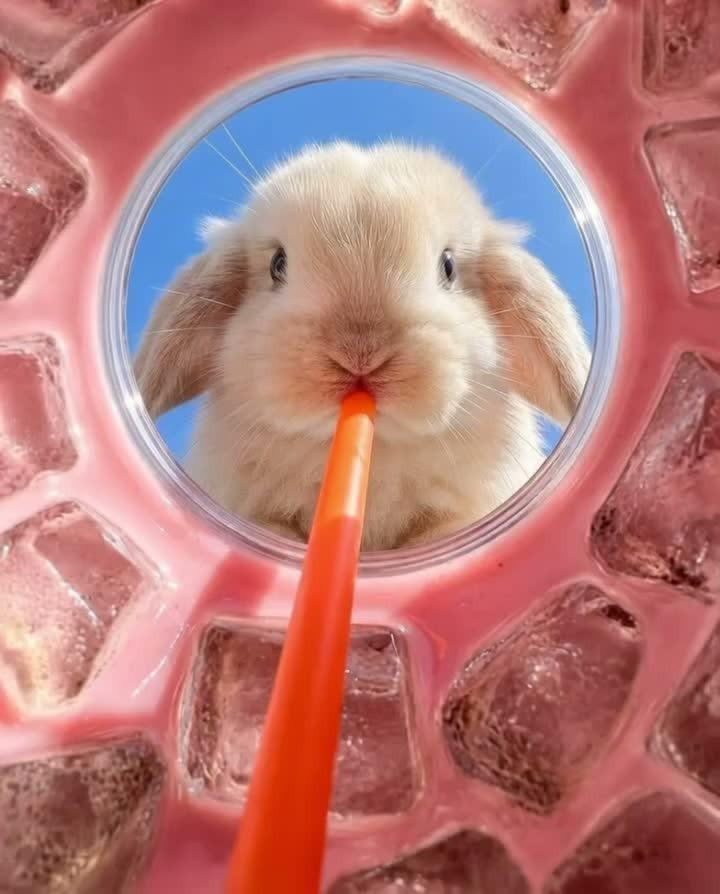non-dog: (132, 132, 597, 562)
